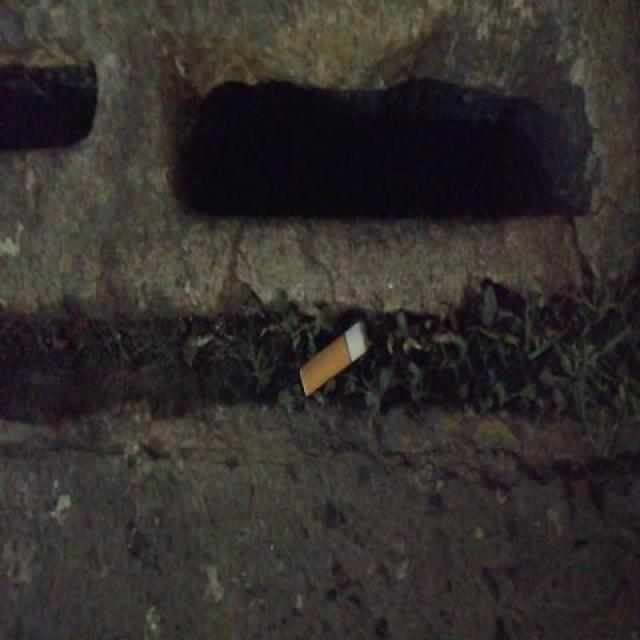non-organic waste: (295, 317, 378, 402)
